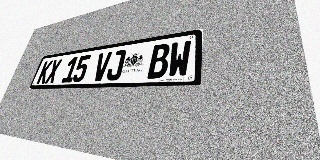1: (61, 56, 80, 83)
5: (72, 55, 91, 82)
B: (147, 43, 171, 79)
J: (105, 49, 127, 81)
K: (36, 60, 53, 84)
V: (92, 51, 112, 81)
W: (167, 40, 192, 78)
X: (45, 59, 62, 84)
